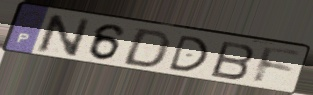6: (86, 23, 127, 63)
B: (208, 39, 257, 82)
D: (119, 27, 174, 69), (166, 34, 210, 74)
F: (251, 45, 304, 86)
N: (35, 13, 94, 59)
